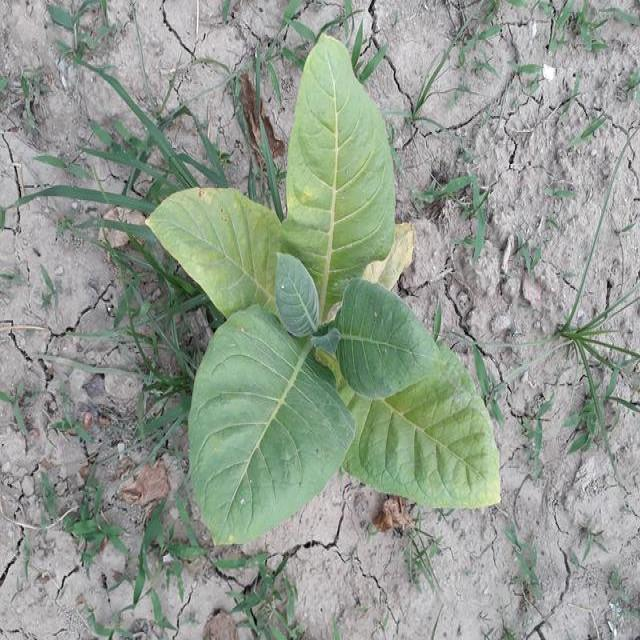crop: (157, 31, 500, 545)
